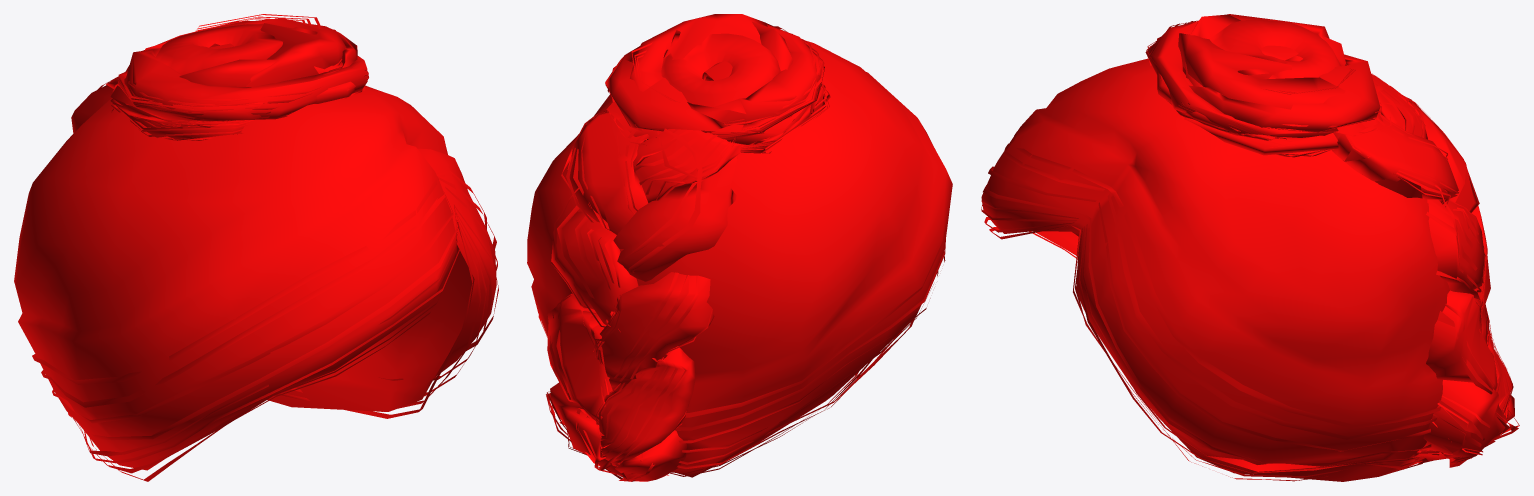
File: elvs_reverse_french_braid_bun_F.glb
The picture shows the model from 3 angles, left to right: view 1: azimuth 30°, elevation 25°; view 2: azimuth 150°, elevation 25°; view 3: azimuth 270°, elevation 25°; orthographic projection. The views are drawn at different scales.
Size of the model in its own units: 0.2157 by 0.2311 by 0.2645.
1 material, 1 textured.
